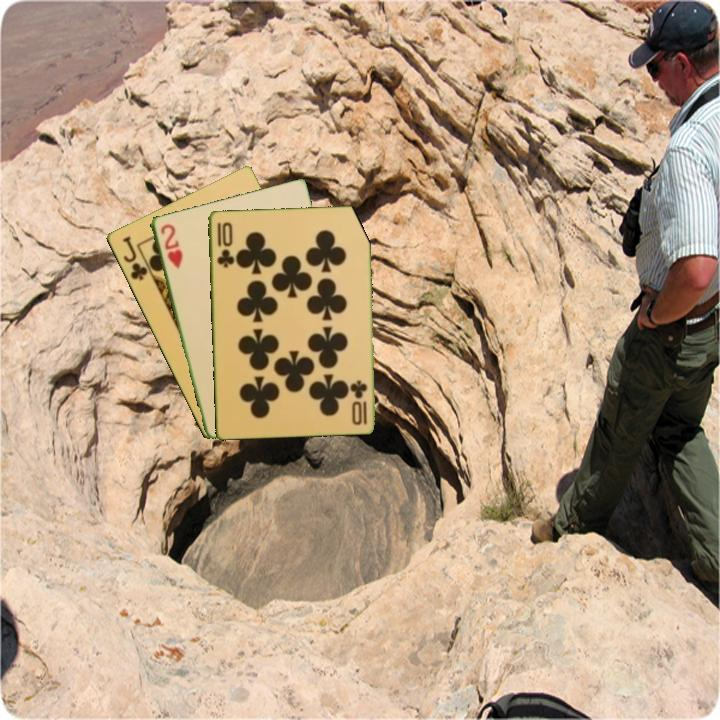10c: (213, 219, 235, 270), (349, 377, 370, 427)
2h: (157, 220, 185, 272)
Jc: (118, 232, 150, 283)
